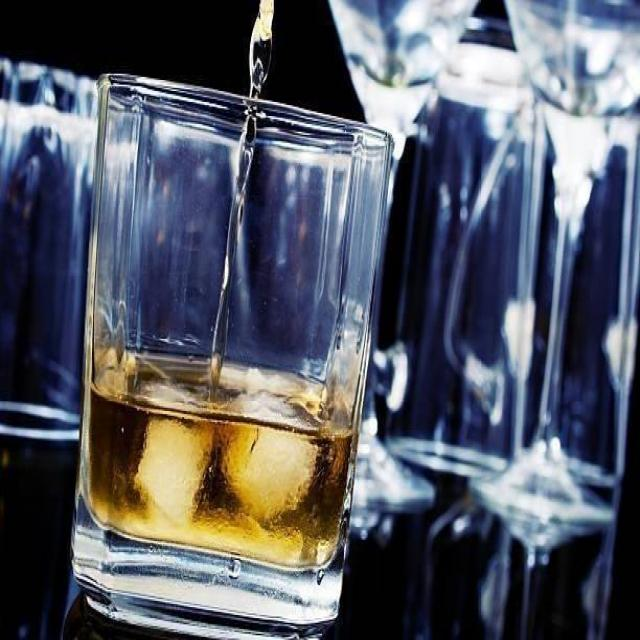glass-normal: (68, 67, 396, 640)
